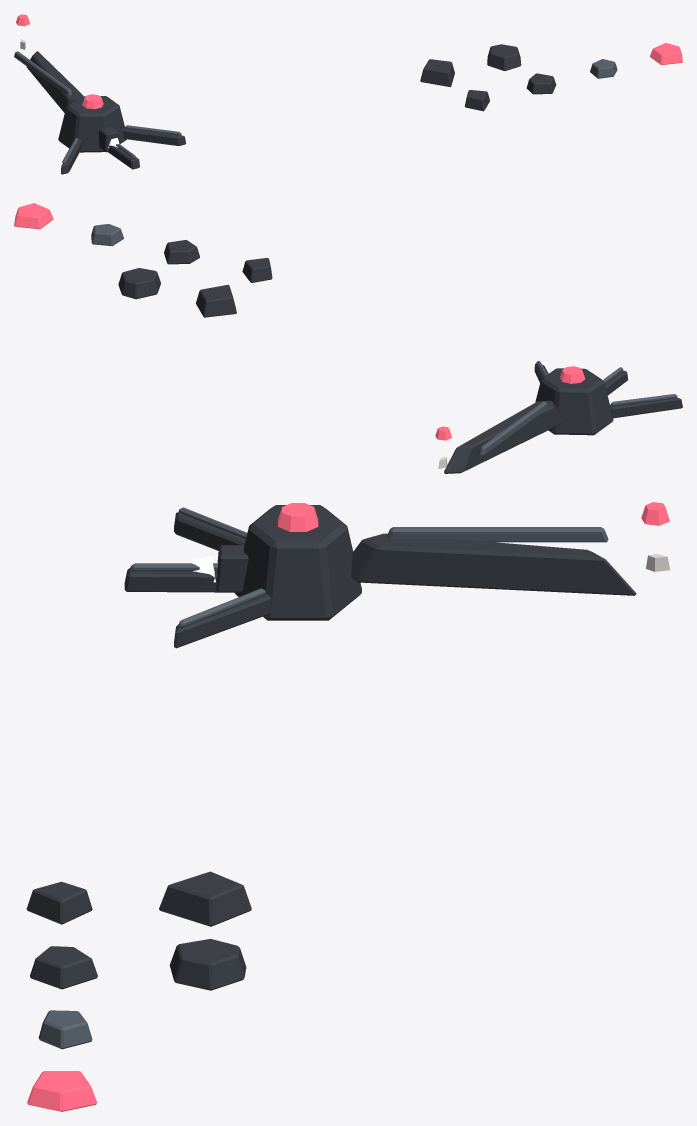
The model's file is Enemy_Sniper_v4.fbx.
The picture shows the model from 3 angles, top to bottom: view 1: azimuth 30°, elevation 25°; view 2: azimuth 150°, elevation 25°; view 3: azimuth 270°, elevation 25°; orthographic projection. The views are drawn at different scales.
Visible parts, largest first — view 1: Body, Lance, Enemy_Sniper_v4_Chunk_05, Enemy_Sniper_v4_Chunk_06, Leg_01, Enemy_Sniper_v4_Chunk_04, Trim_Lance, Enemy_Sniper_v4_Chunk_02, Enemy_Sniper_v4_Chunk_01, Enemy_Sniper_v4_Chunk_03, Leg_03, Thruster_Main (+2 smaller); view 2: Body, Lance, Enemy_Sniper_v4_Chunk_06, Enemy_Sniper_v4_Chunk_05, Leg_02, Enemy_Sniper_v4_Chunk_04, Enemy_Sniper_v4_Chunk_02, Trim_Lance, Enemy_Sniper_v4_Chunk_01, Enemy_Sniper_v4_Chunk_03; view 3: Lance, Body, Enemy_Sniper_v4_Chunk_05, Enemy_Sniper_v4_Chunk_06, Trim_Lance, Enemy_Sniper_v4_Chunk_04, Enemy_Sniper_v4_Chunk_02, Enemy_Sniper_v4_Chunk_01, Leg_01, Leg_03, Enemy_Sniper_v4_Chunk_03, Thruster_Main (+2 smaller).
Boxes of the visible parts, box(x1,y1,x2,y2) form: Body: box(58, 96, 126, 152); Lance: box(26, 51, 83, 112); Enemy_Sniper_v4_Chunk_05: box(420, 59, 454, 86); Enemy_Sniper_v4_Chunk_06: box(487, 44, 521, 70); Leg_01: box(123, 128, 186, 145); Enemy_Sniper_v4_Chunk_04: box(650, 43, 682, 65); Trim_Lance: box(14, 51, 71, 95); Enemy_Sniper_v4_Chunk_02: box(526, 73, 556, 94); Enemy_Sniper_v4_Chunk_01: box(464, 90, 489, 111); Enemy_Sniper_v4_Chunk_03: box(590, 59, 617, 78); Leg_03: box(108, 144, 139, 169); Thruster_Main: box(99, 126, 119, 152); Body: box(535, 368, 613, 435); Lance: box(444, 400, 561, 473); Enemy_Sniper_v4_Chunk_06: box(118, 268, 160, 299); Enemy_Sniper_v4_Chunk_05: box(196, 285, 236, 317); Leg_02: box(610, 397, 682, 418); Enemy_Sniper_v4_Chunk_04: box(14, 203, 53, 229); Enemy_Sniper_v4_Chunk_02: box(164, 240, 199, 264); Trim_Lance: box(479, 401, 547, 456); Enemy_Sniper_v4_Chunk_01: box(242, 258, 272, 282); Enemy_Sniper_v4_Chunk_03: box(91, 224, 123, 246); Lance: box(351, 533, 636, 595); Body: box(234, 505, 361, 620); Enemy_Sniper_v4_Chunk_05: box(159, 871, 251, 926); Enemy_Sniper_v4_Chunk_06: box(169, 939, 246, 990); Trim_Lance: box(387, 527, 608, 542); Enemy_Sniper_v4_Chunk_04: box(27, 1071, 96, 1111); Enemy_Sniper_v4_Chunk_02: box(30, 946, 97, 989); Enemy_Sniper_v4_Chunk_01: box(26, 881, 92, 924); Leg_01: box(174, 594, 271, 648); Leg_03: box(124, 568, 217, 592); Enemy_Sniper_v4_Chunk_03: box(38, 1010, 92, 1049); Thruster_Main: box(216, 545, 248, 592).
Size of the model in its own units: 5.5 by 0.48 by 2.59.
